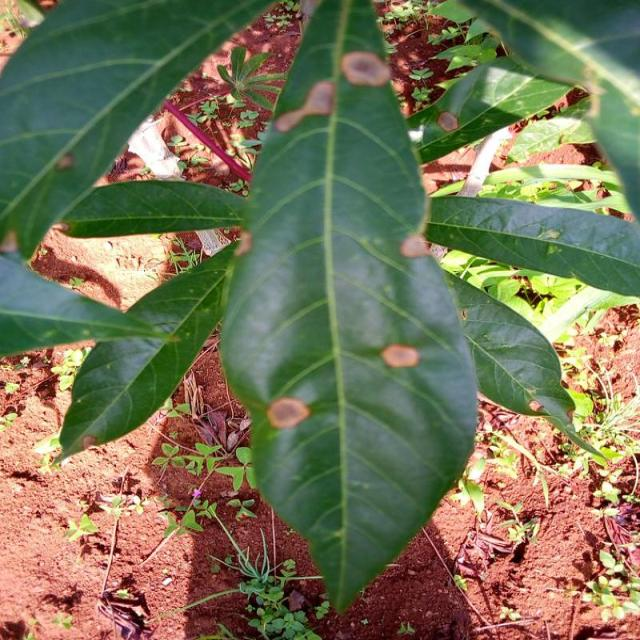cassava leaf: (216, 0, 479, 614)
